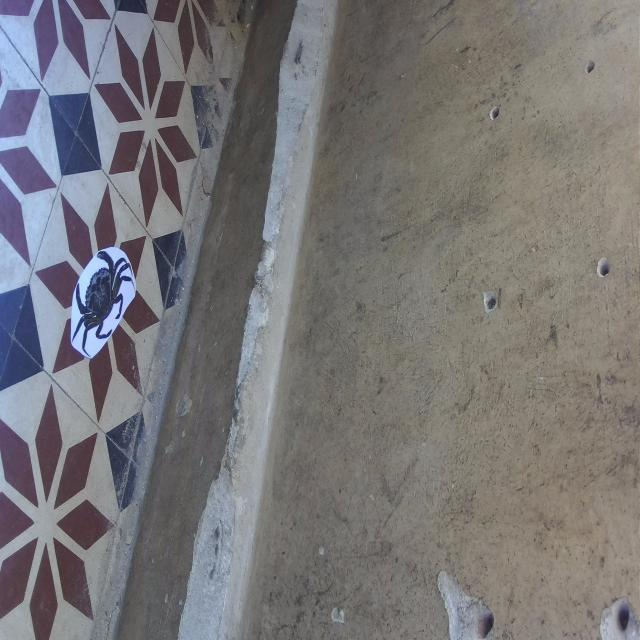European_Green_Crab: (58, 229, 142, 373)
